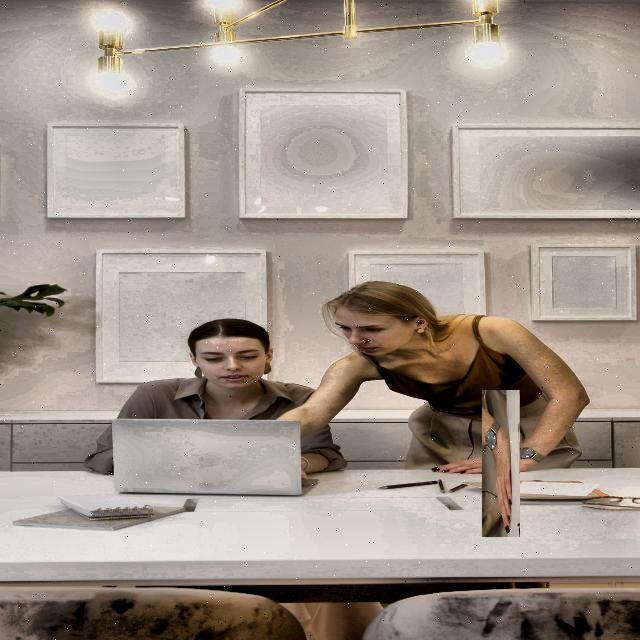not-gloved: (454, 416, 548, 509)
